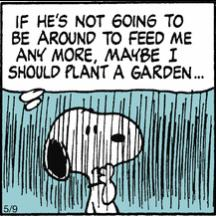snoopy: (42, 105, 144, 214)
